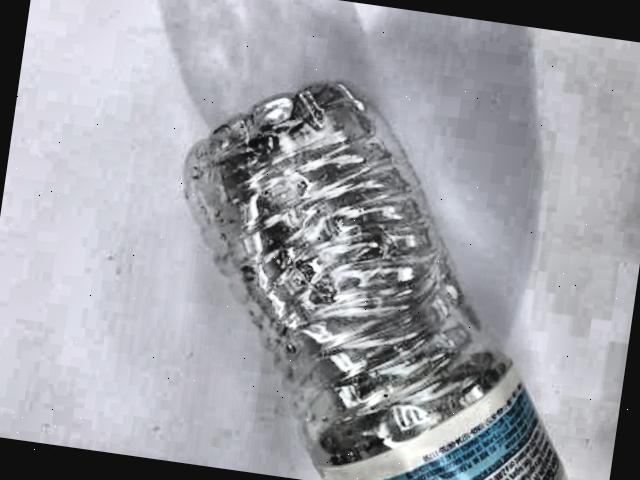Bottles: (107, 27, 640, 480)
